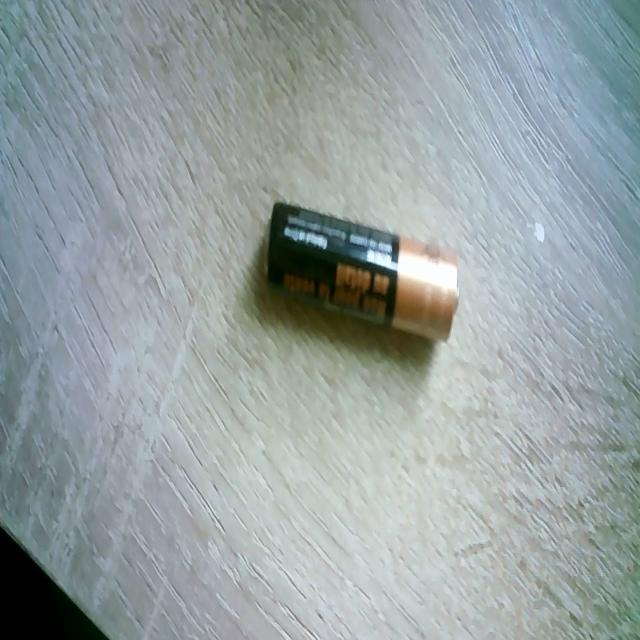AA: (266, 199, 460, 344)
